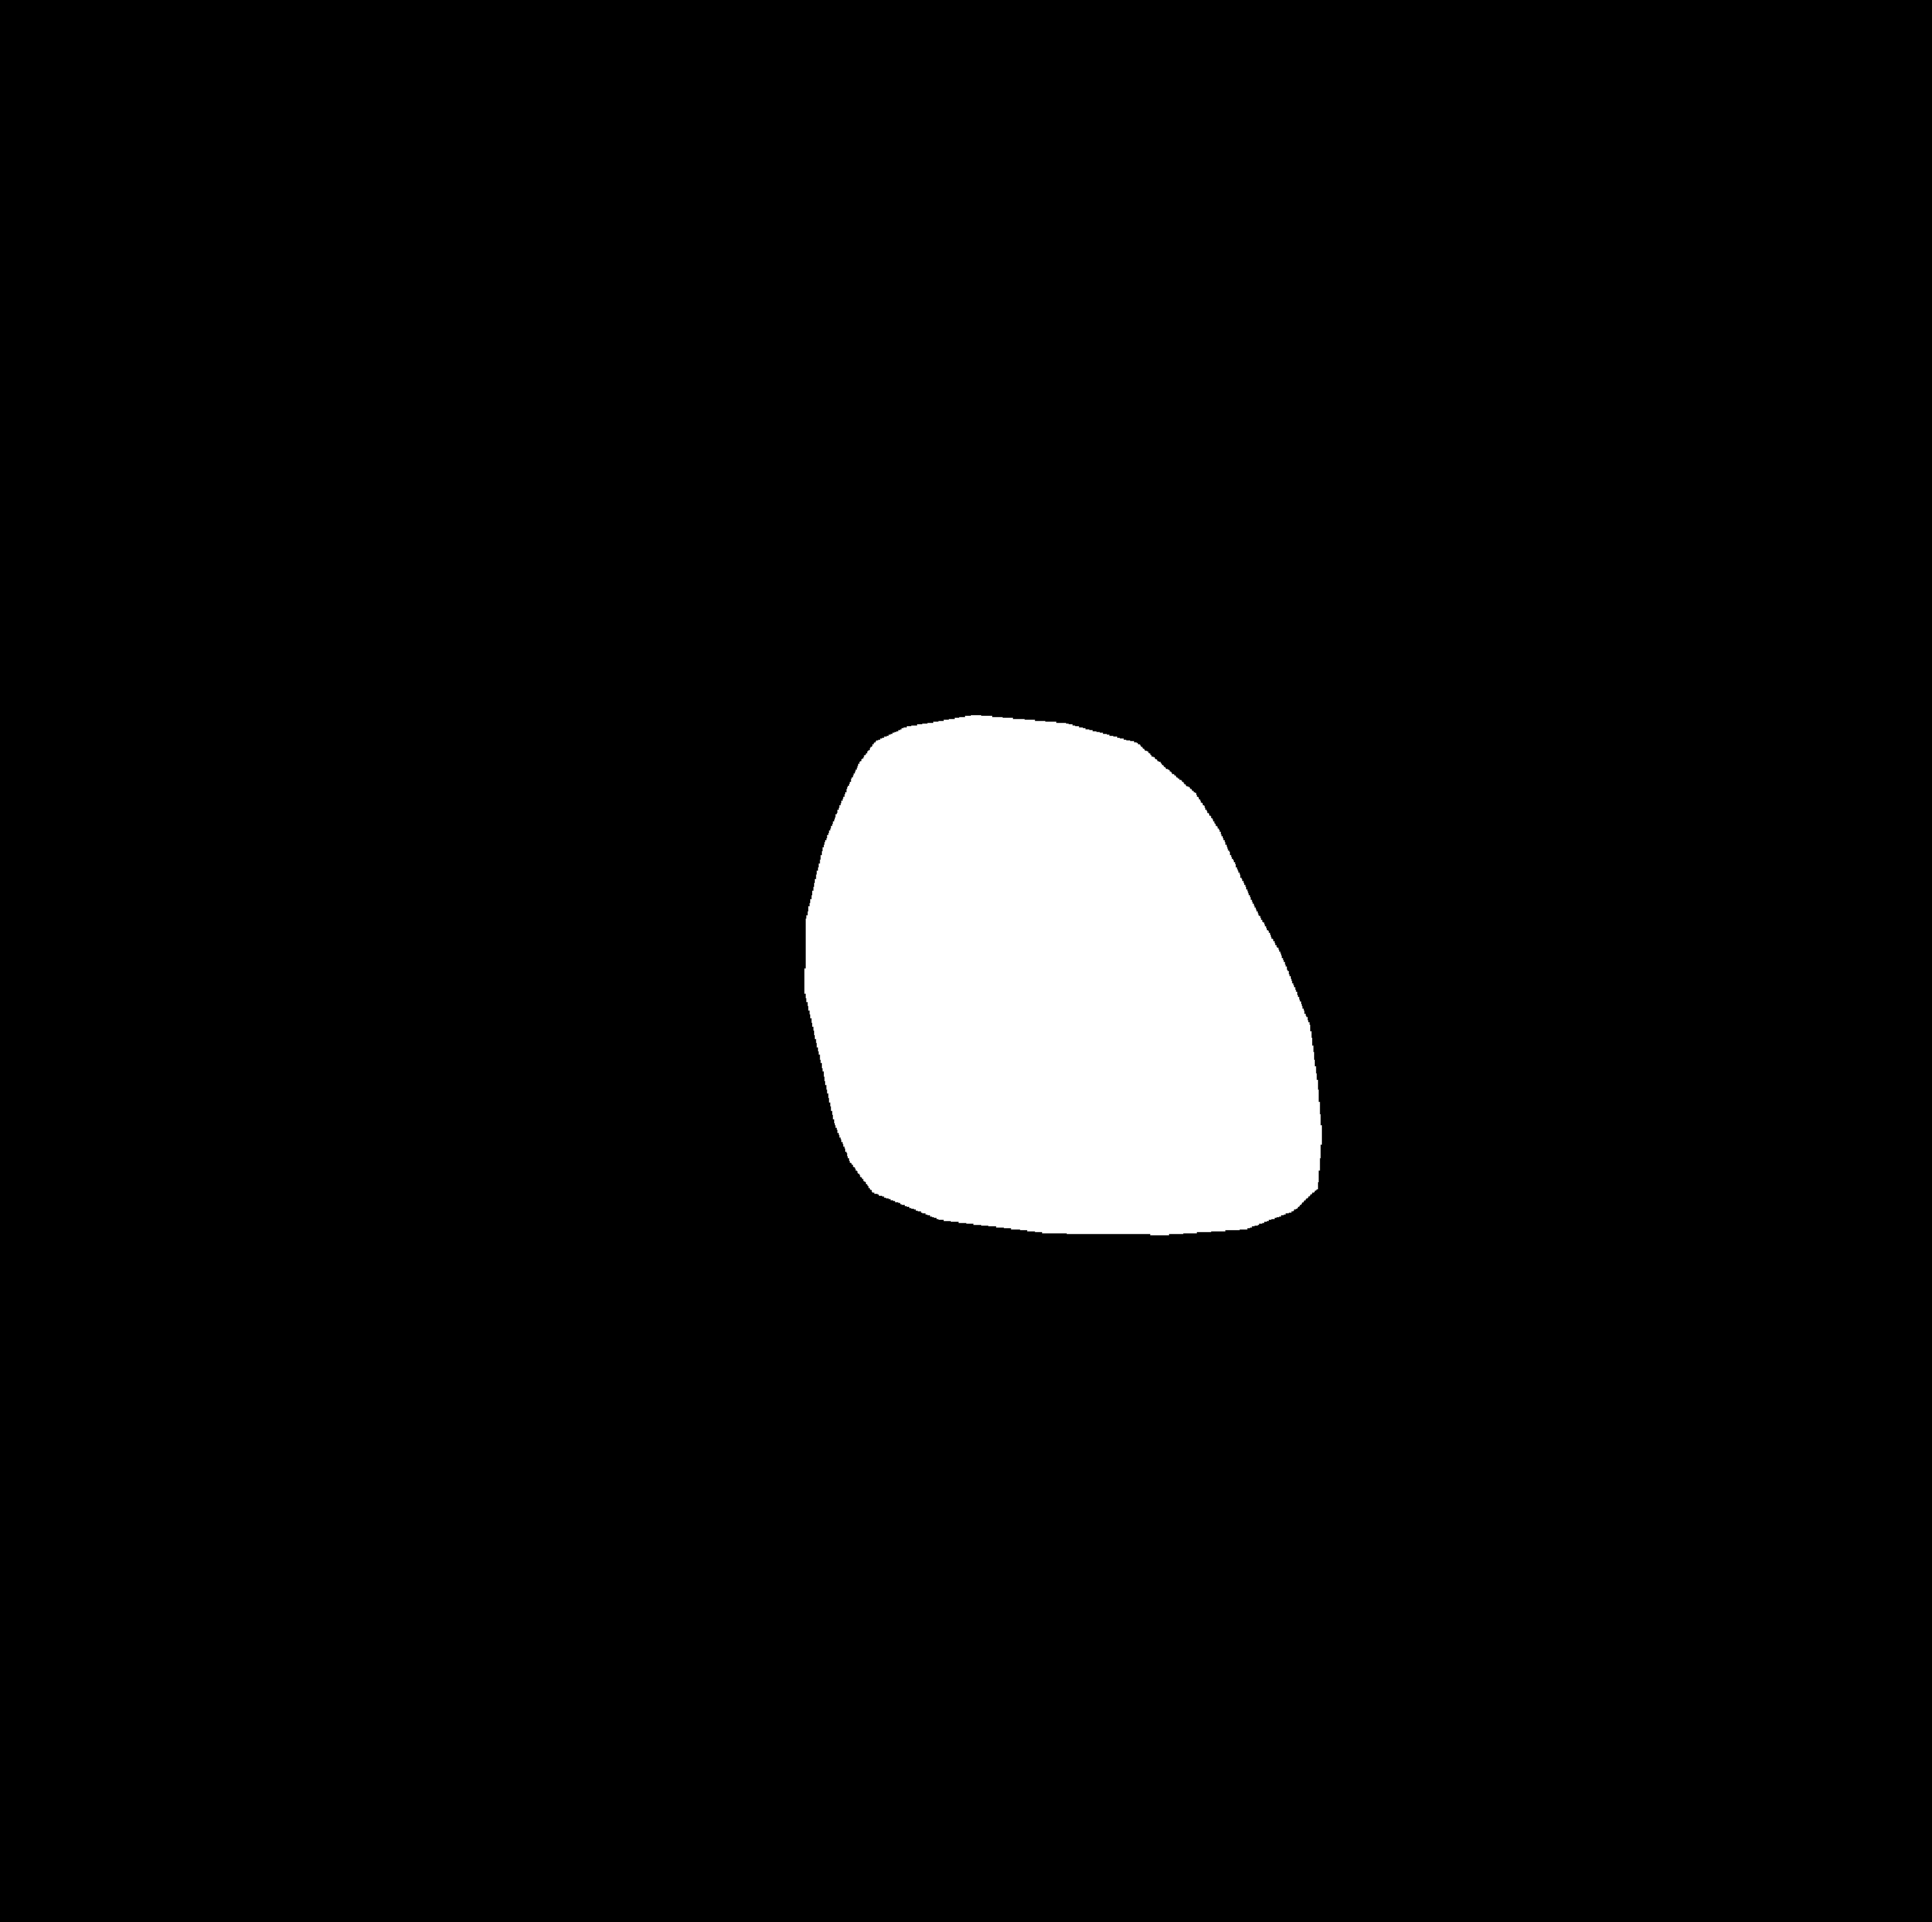heart: (809, 766, 1316, 1213)
left_lung: (343, 171, 943, 1387)
right_lung: (1065, 151, 1575, 1443)
